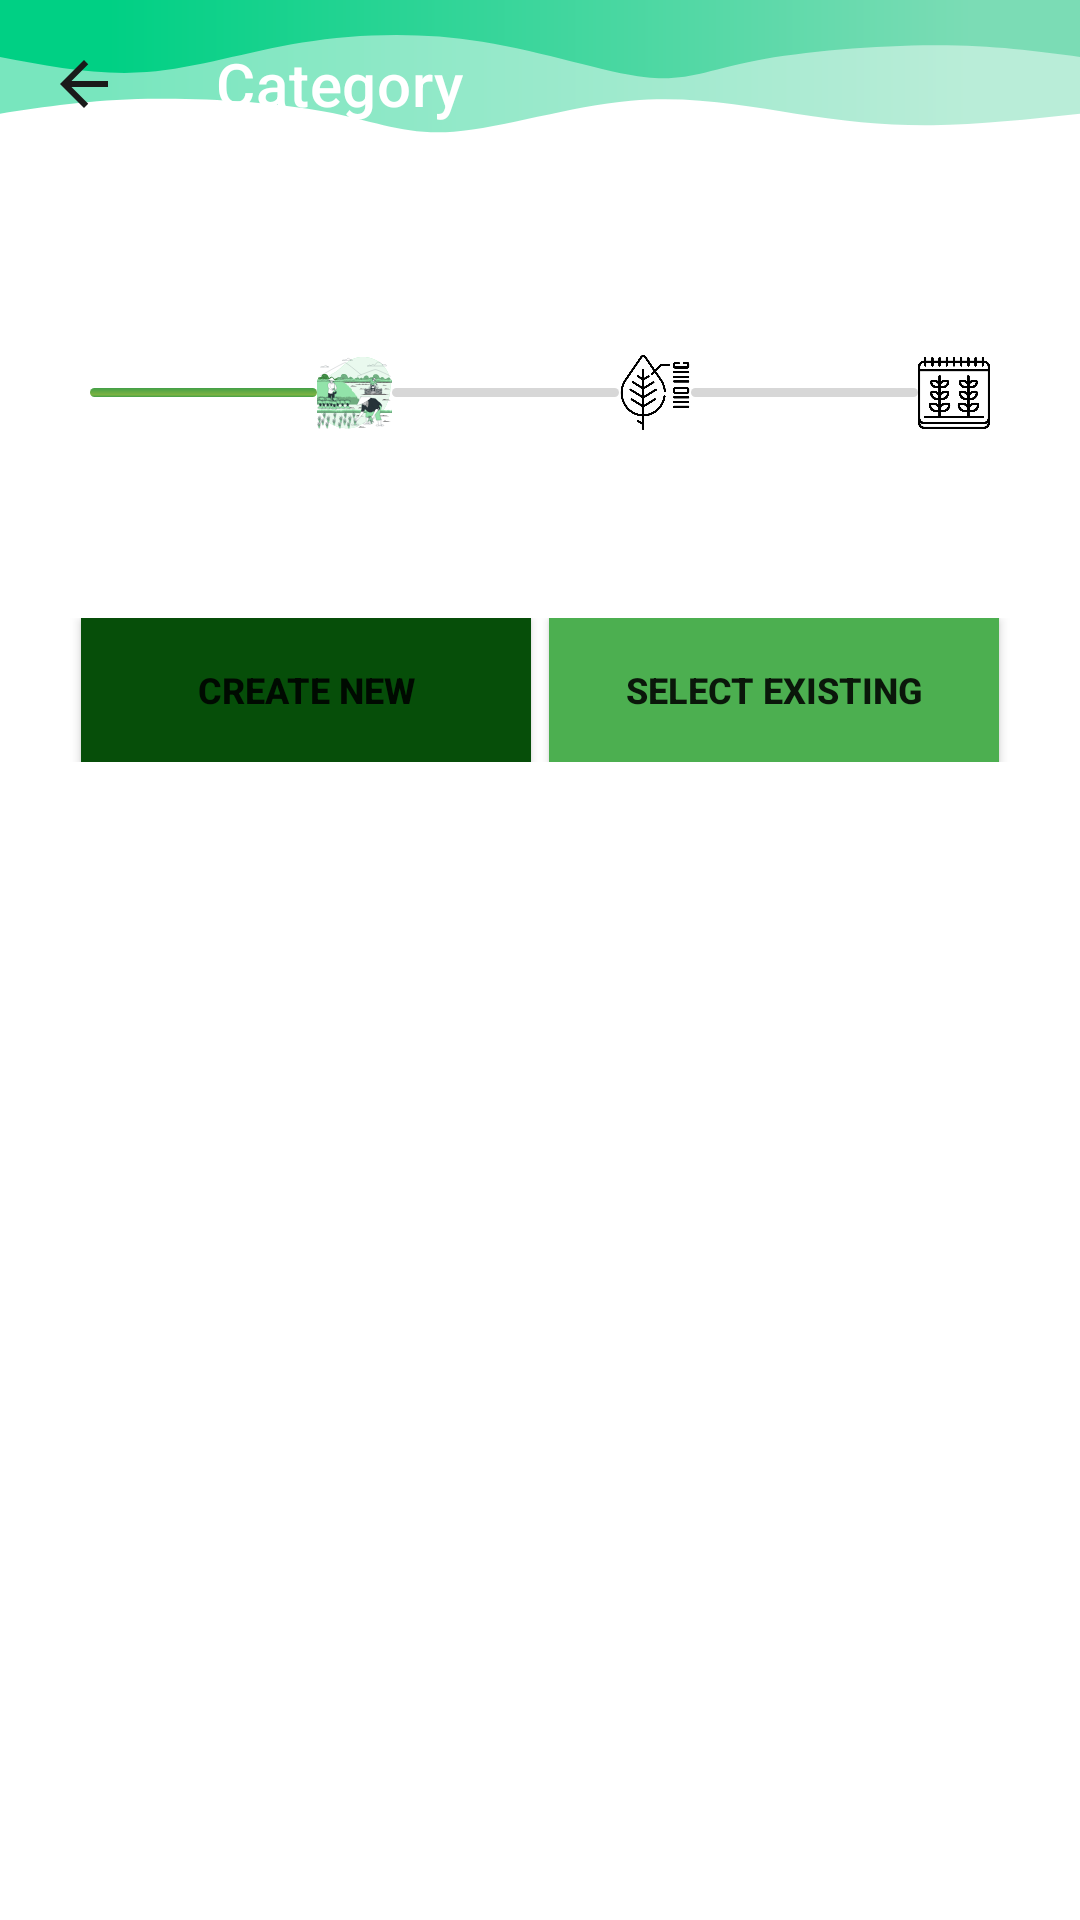

Screen size 1080×1920. Icon name, then its center in pixels as point (x, y):
datebw: point (954, 393)
